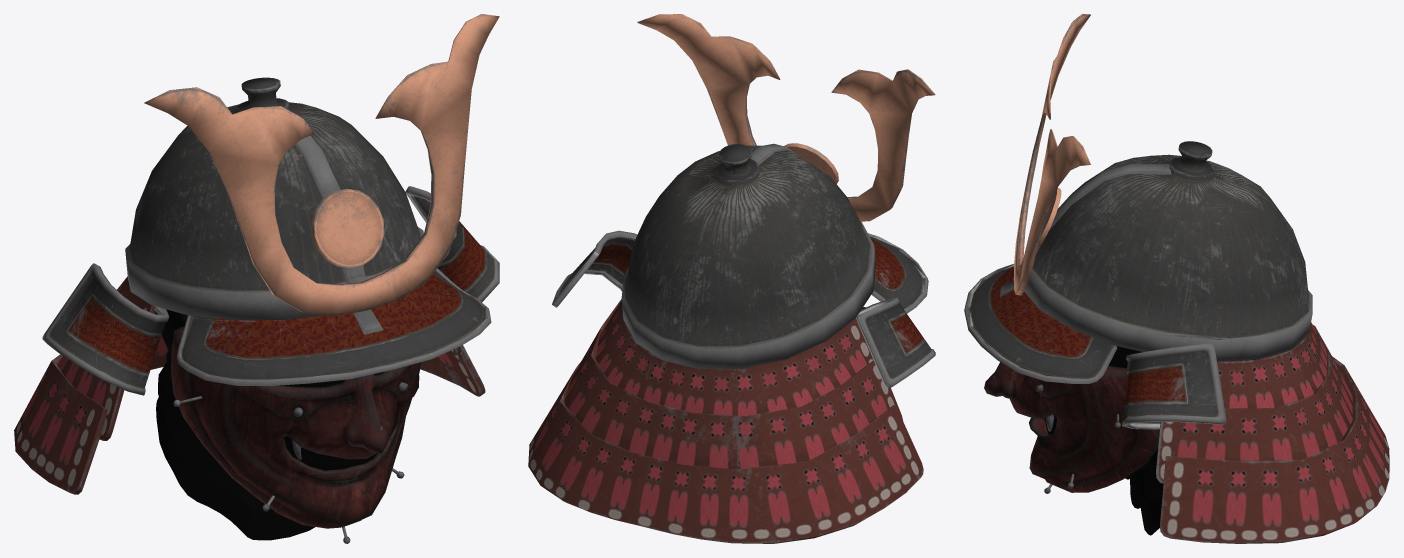
File: samurai_helmet.glb
3 renders of one model, left to right at view 1: azimuth 30°, elevation 25°; view 2: azimuth 150°, elevation 25°; view 3: azimuth 270°, elevation 25°, orthographic. The views are drawn at different scales.
Visible parts, largest first — view 1: Samurai_Helmet_09_low001, Samurai_Mask_low001_UV_Samurai_Mask_0, Object002_M_UE4Man_Body_0; view 2: Samurai_Helmet_09_low001; view 3: Samurai_Helmet_09_low001, Samurai_Mask_low001_UV_Samurai_Mask_0, Object002_M_UE4Man_Body_0.
Boxes of the visible parts, x1,y1,x2,y2 form: Samurai_Helmet_09_low001: (14, 14, 499, 494); Samurai_Mask_low001_UV_Samurai_Mask_0: (171, 326, 421, 543); Object002_M_UE4Man_Body_0: (156, 309, 383, 540); Samurai_Helmet_09_low001: (528, 14, 935, 543); Samurai_Helmet_09_low001: (964, 14, 1389, 543); Samurai_Mask_low001_UV_Samurai_Mask_0: (984, 362, 1159, 493); Object002_M_UE4Man_Body_0: (1044, 346, 1258, 535).
Size of the model in its own units: 37.05 by 42.58 by 36.84.
Materials: 3 (2 with a texture image).
